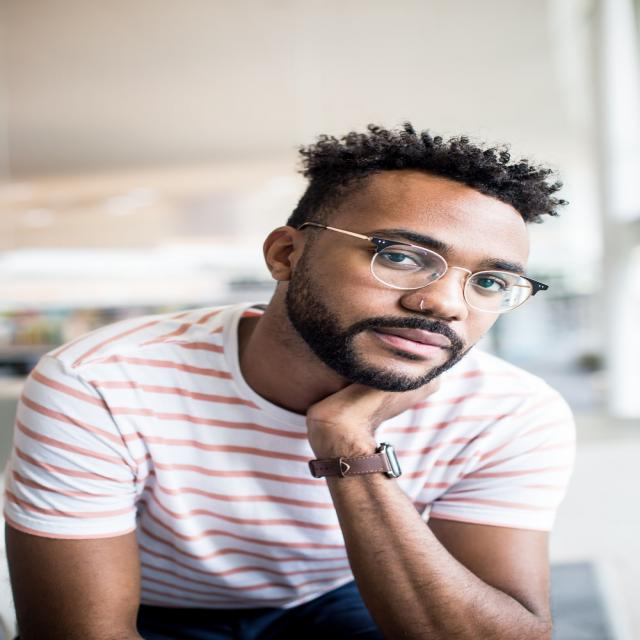Glasses: (306, 220, 548, 315)
